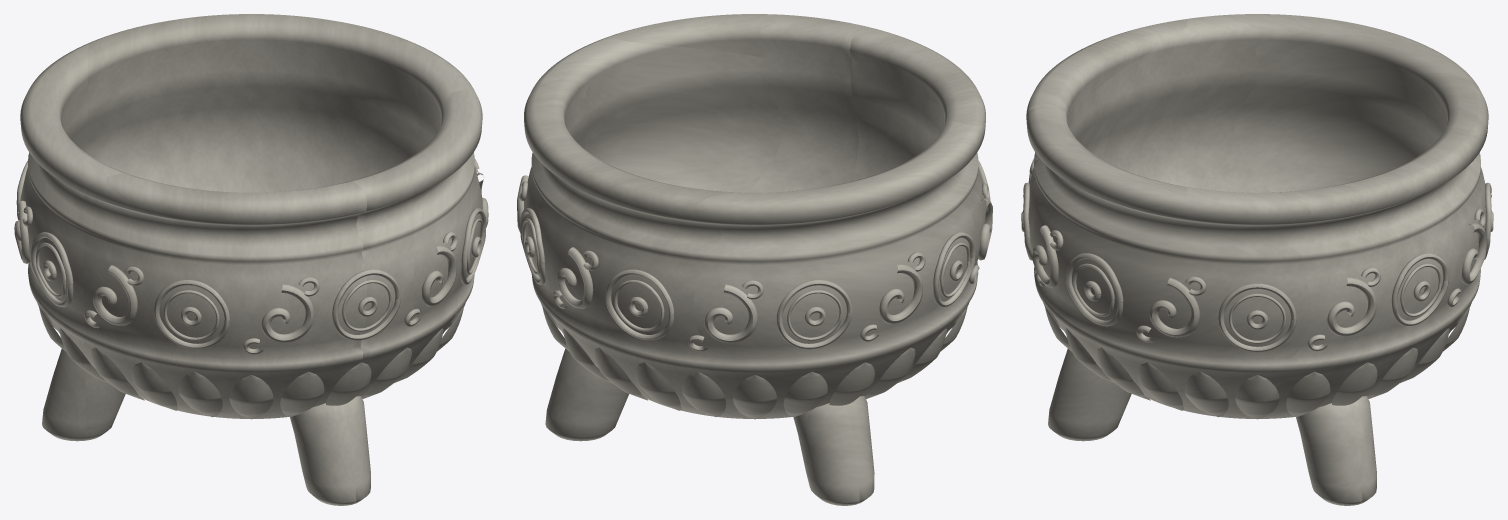
Rendered from StoneCenser_LOD0.glb.
3 renders of one model, left to right at view 1: azimuth 30°, elevation 25°; view 2: azimuth 150°, elevation 25°; view 3: azimuth 270°, elevation 25°, orthographic.
Parts seen in each view (by area): view 1: StoneCenser_LOD0; view 2: StoneCenser_LOD0; view 3: StoneCenser_LOD0.
Part boxes in pixels (<box>): StoneCenser_LOD0: <box>14,14,488,505</box>; StoneCenser_LOD0: <box>517,14,992,505</box>; StoneCenser_LOD0: <box>1021,14,1493,505</box>.
Size of the model in its own units: 0.6131 by 0.468 by 0.6131.
Materials: 1 (1 with a texture image).
